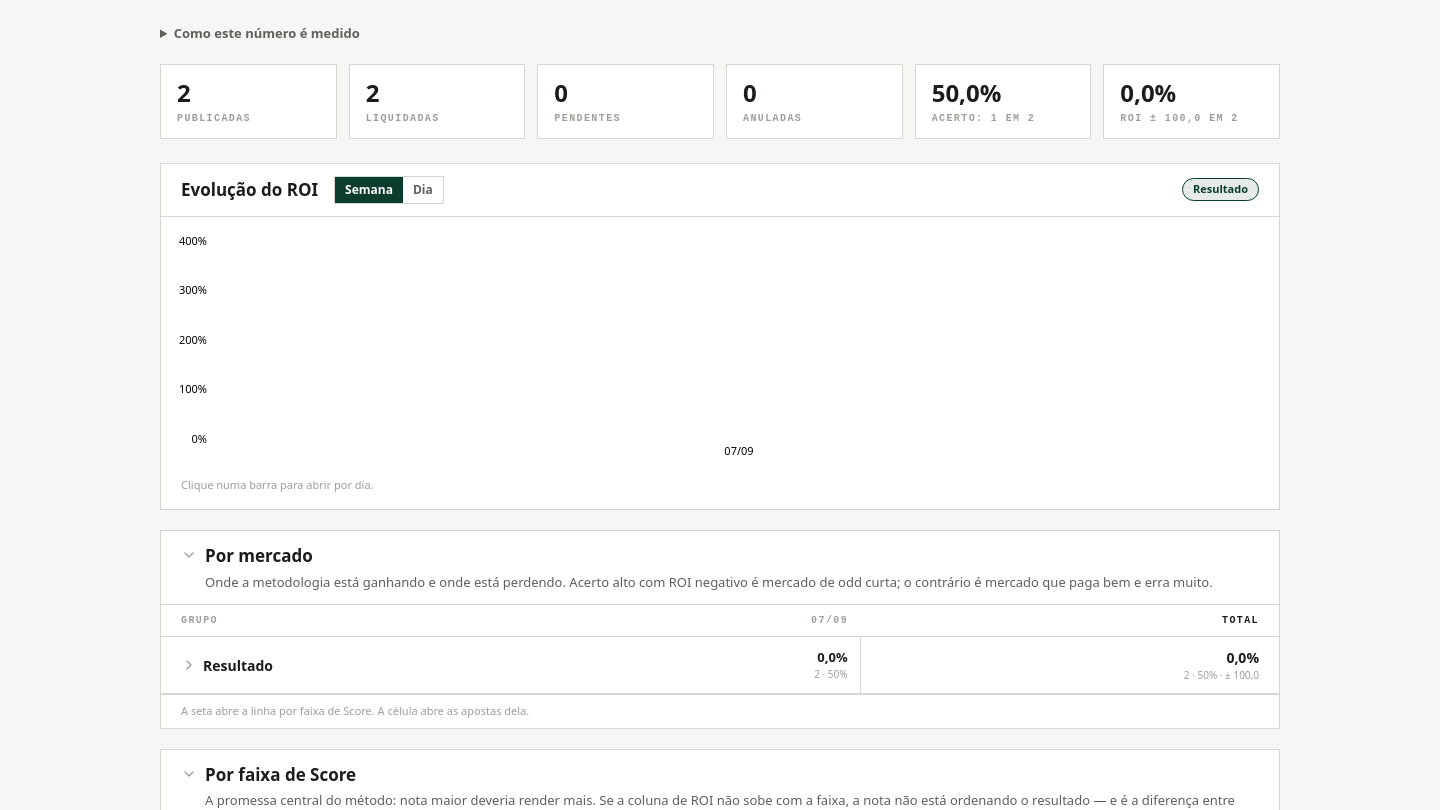
Test case: a matriz das quebras › clicar numa célula abre o drill, do pior para o melhor
The width and height of the screenshot is (1440, 810).
Click the cell "0,0% 2 · 50%".
click(832, 657)  # box x1=639 y1=636 x2=860 y2=694
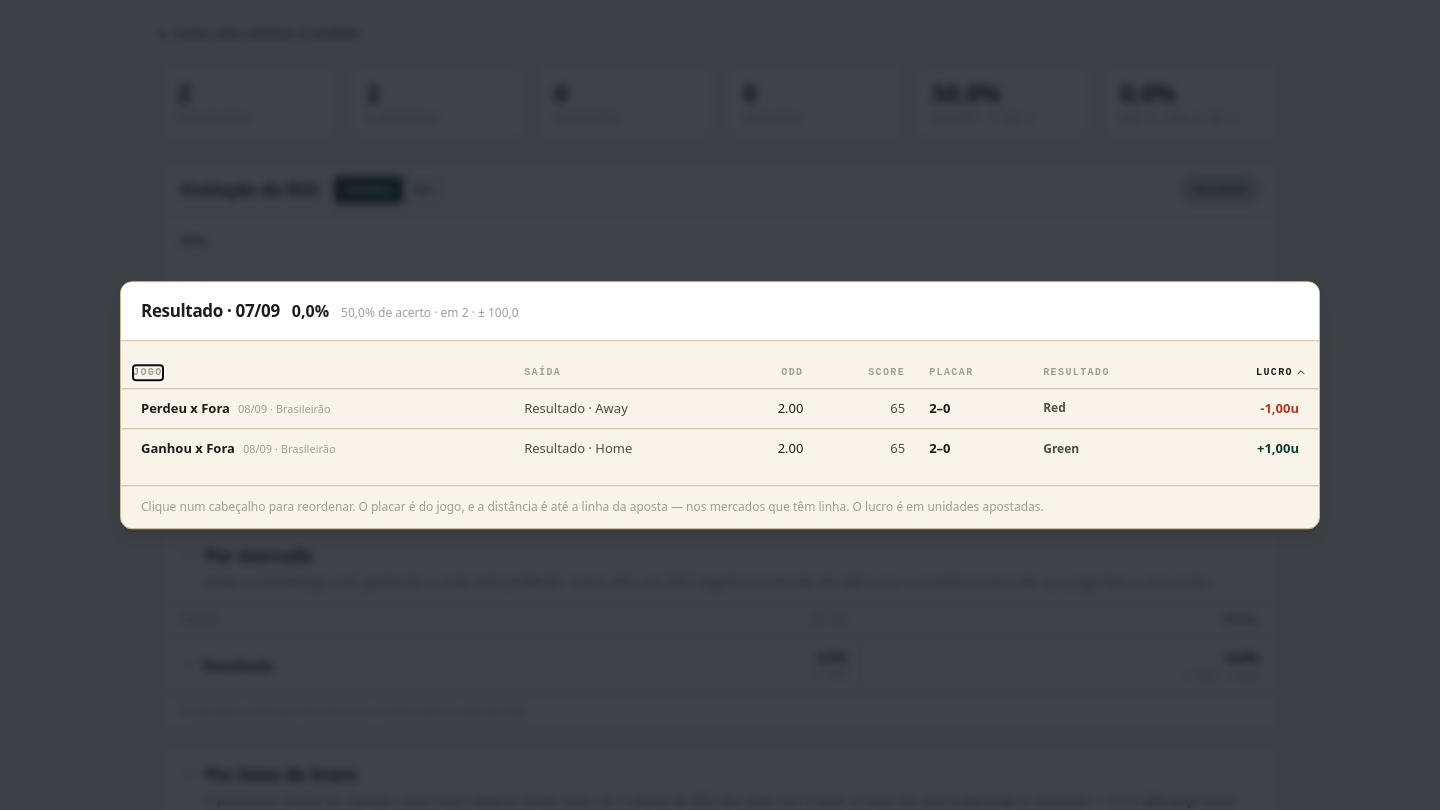
Expected: the dialog shows "Perdeu", x1=141 y1=399 x2=187 y2=417
Expected: the dialog shows "Ganhou", x1=141 y1=439 x2=192 y2=457
Expected: the row that starts with "Perdeu" is shown, x1=141 y1=399 x2=187 y2=417
